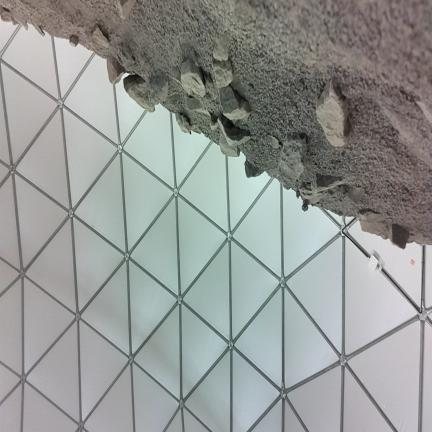Rock: (316, 79, 348, 147), (124, 75, 168, 112), (278, 137, 306, 182), (124, 75, 154, 112), (219, 86, 250, 120), (218, 116, 250, 146), (181, 59, 205, 97), (360, 212, 391, 239), (149, 74, 168, 104), (213, 60, 233, 87), (107, 56, 125, 84), (220, 132, 239, 156), (391, 224, 409, 249), (213, 35, 230, 60), (91, 25, 109, 48), (317, 173, 342, 189), (10, 9, 28, 29), (187, 98, 209, 114), (416, 101, 431, 124), (117, 0, 136, 18), (245, 160, 263, 177), (348, 186, 365, 204), (176, 113, 191, 133), (0, 6, 12, 22), (268, 135, 280, 148), (32, 24, 44, 36), (173, 68, 181, 84), (211, 115, 218, 130), (191, 124, 201, 133), (70, 35, 78, 46), (302, 200, 309, 211)
